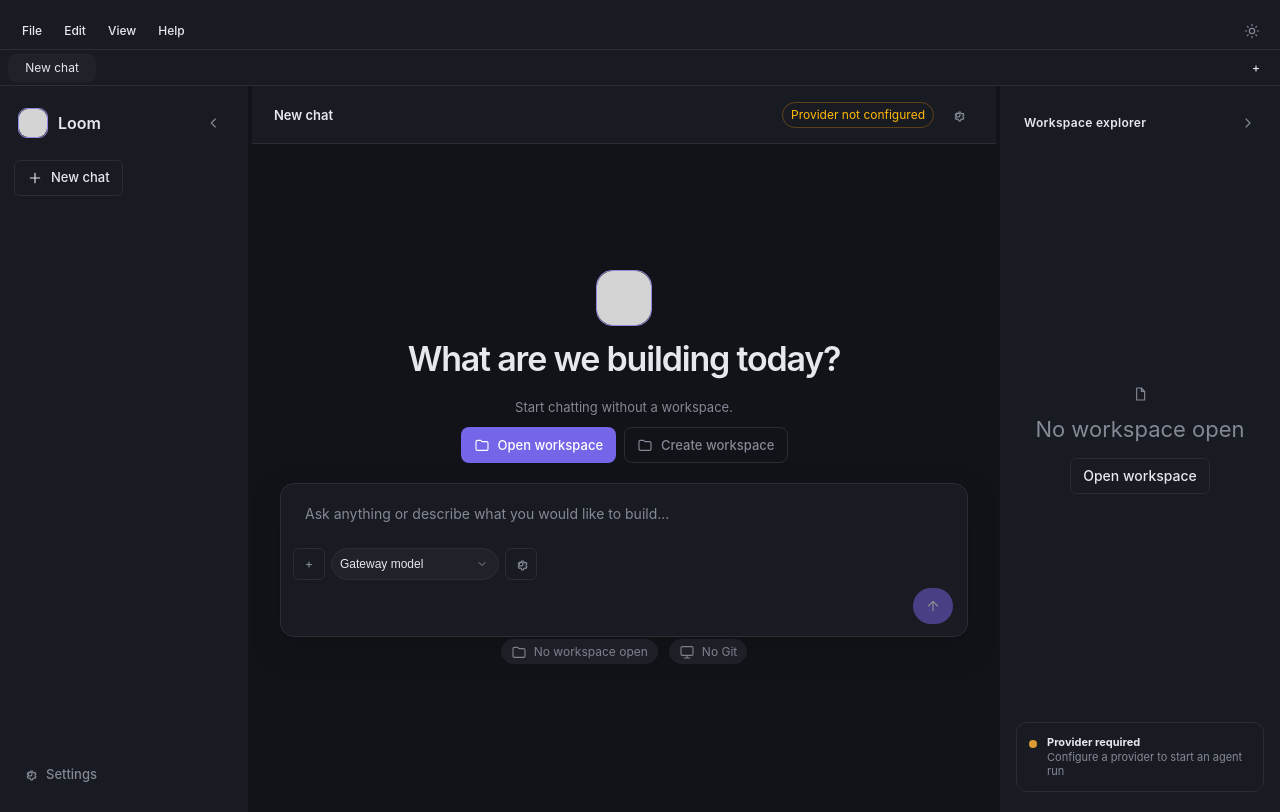
Test: MainUI testing › dragging the conversation divider to the collapse point closes the sidebar
Press the mouse on the element named "Resize conversation sidebar": {"x": 250, "y": 449} x1=248 y1=86 x2=252 y2=811
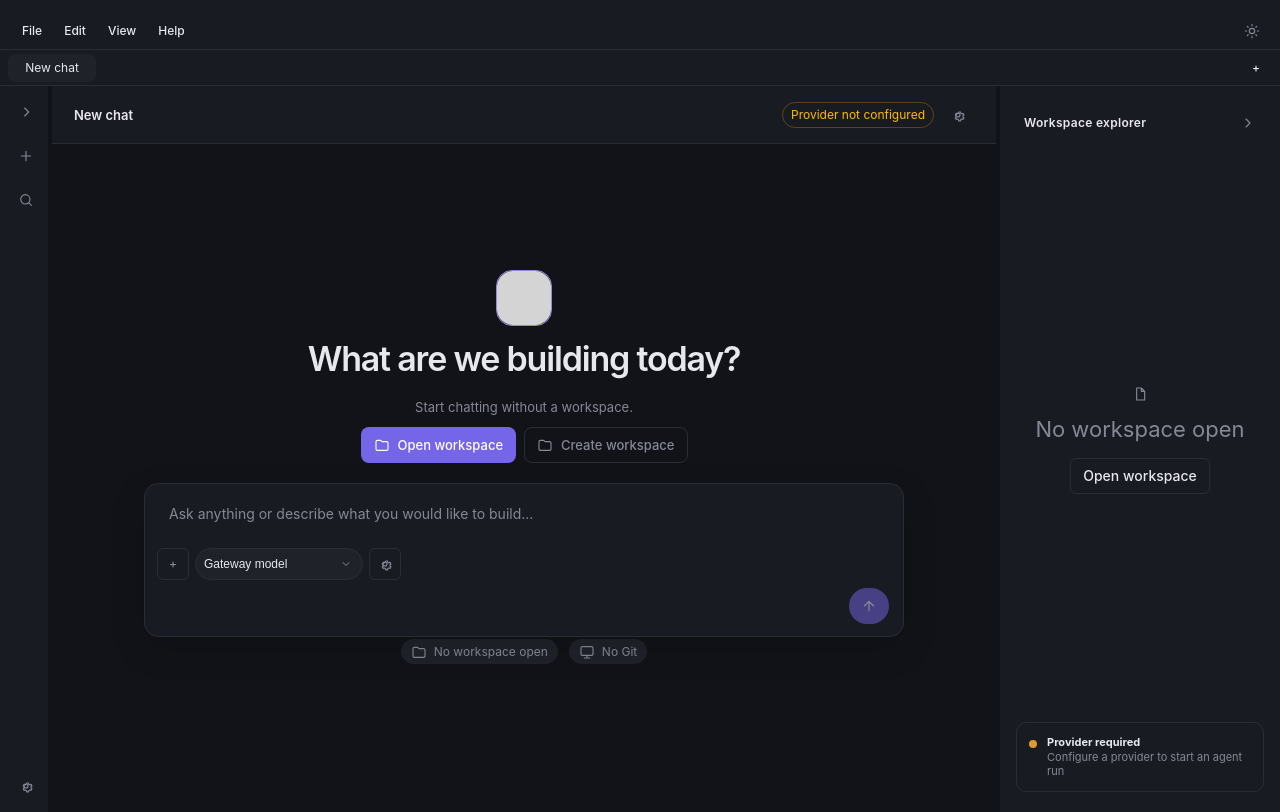
Expected: the element named "Conversation tools" is shown, x1=0 y1=86 x2=48 y2=811
Expected: the button named "Show conversations" is shown, x1=8 y1=94 x2=44 y2=130
